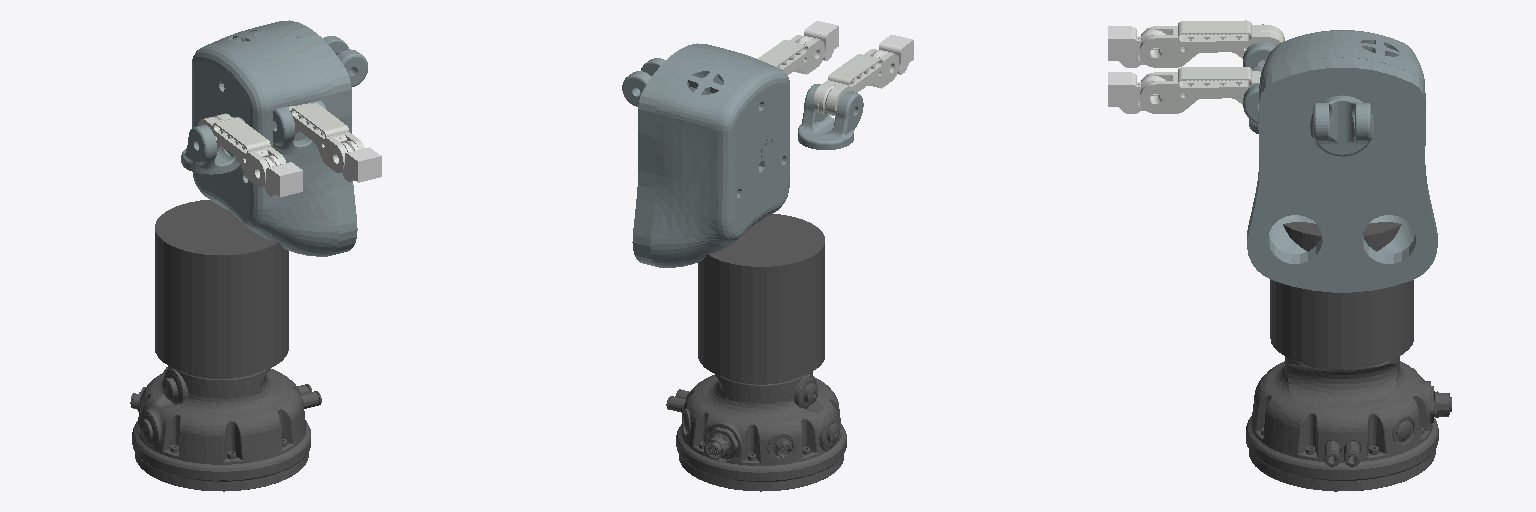
The robot description file, URDF, robot "kuka":
<?xml version="1.0" ?>

<robot name="kuka">
  <!-- Custom materials (colours) -->
  <material name="Black">
    <color rgba="0.2 0.2 0.2 1.0"/>
  </material>
  <material name="Blue">
    <color rgba="0.0 0.0 0.8 1.0"/>
  </material>
  <material name="Green">
    <color rgba="0.0 0.8 0.0 1.0"/>
  </material>
  <material name="TransGreen">
    <color rgba="0.0 0.8 0.0 0.0"/>
  </material>
  <material name="Grey">
    <color rgba="0.4 0.4 0.4 1.0"/>
  </material>

  <material name="Floor">
    <color rgba="0.5 0.5 0.5 1.0"/>
  </material>
  <material name="Red">
    <color rgba="0.8 0.0 0.0 1.0"/>
  </material>
  <material name="White">
    <color rgba="1.0 1.0 1.0 1.0"/>
  </material>
  <material name="Transparent">
    <color rgba="0.0 0.0 0.0 0.0"/>
  </material>

  <material name="Black">
    <color rgba="0.0 0.0 0.0 1.0"/>
  </material>
  <material name="Blue">
    <color rgba="0.0 0.0 0.8 1.0"/>
  </material>
  <material name="Green">
    <color rgba="0.0 0.8 0.0 1.0"/>
  </material>
  <material name="Grey">
    <color rgba="0.4 0.4 0.4 1.0"/>
  </material>
  <material name="Orange">
    <color rgba="1.0 0.423529411765 0.0392156862745 1.0"/>
  </material>
  <material name="Brown">
    <color rgba="0.870588235294 0.811764705882 0.764705882353 1.0"/>
  </material>
  <material name="Red">
    <color rgba="0.8 0.0 0.0 1.0"/>
  </material>
  <material name="White">
    <color rgba="1.0 1.0 1.0 1.0"/>
  </material>

    <link name="iiwa7_link_0">
      <inertial>
        <origin xyz="-0.1 0 0.07" rpy="0 0 0"/>
        <mass value="5"/>
        <inertia ixx="0.05"  ixy="0"  ixz="0" iyy="0.06" iyz="0" izz="0.03" />
      </inertial>

      <visual>
        <origin xyz="0 0 0" rpy="0 0 0"/>
        <geometry>
          <mesh filename="../../urdf/kuka_openhand_description/meshes/iiwa14/visual/link_0.obj"/>
        </geometry>
        <material name="Grey"/>
      </visual>

      <collision>
        <origin xyz="0 0 0" rpy="0 0 0"/>
        <geometry>
          <mesh filename="../../urdf/kuka_openhand_description/meshes/iiwa14/collision/link_0.obj"/>
        </geometry>
        <material name="Grey"/>
      </collision>

      <self_collision_checking>
        <origin xyz="0 0 0" rpy="0 0 0"/>
        <geometry>
          <capsule radius="0.15" length="0.25"/>
        </geometry>
      </self_collision_checking>

    </link>

    <!-- joint between link_0 and link_1 -->
    <joint name="iiwa7_joint_1" type="revolute">
      <parent link="iiwa7_link_0"/>
      <child link="iiwa7_link_1"/>
      <origin xyz="0 0 0.1575" rpy="0 0 0"/>
      <axis xyz="0 0 1"/>
      <limit lower="-2.96705972839" upper="2.96705972839"
             effort="300" velocity="2" />
      <safety_controller soft_lower_limit="-2.93215314335"
                         soft_upper_limit="2.93215314335"
                         k_position="100"
                         k_velocity="2"/>
      <dynamics damping="0.5"/>
    </joint>

    <link name="iiwa7_link_1">
      <inertial>
        <origin xyz="0 -0.03 0.12" rpy="0 0 0"/>
        <mass value="4"/>
        <inertia ixx="0.1"  ixy="0"  ixz="0" iyy="0.09" iyz="0" izz="0.02" />
      </inertial>

      <visual>
        <origin xyz="0 0 0" rpy="0 0 0"/>
        <geometry>
          <mesh filename="../../urdf/kuka_openhand_description/meshes/iiwa14/visual/link_1.obj"/>
        </geometry>
        <material name="White"/>
      </visual>

      <collision>
        <origin xyz="0 0 0" rpy="0 0 0"/>
        <geometry>
          <mesh filename="../../urdf/kuka_openhand_description/meshes/iiwa14/collision/link_1.obj"/>
        </geometry>
        <material name="White"/>
      </collision>
    </link>

    <!-- joint between link_1 and link_2 -->
    <joint name="iiwa7_joint_2" type="revolute">
      <parent link="iiwa7_link_1"/>
      <child link="iiwa7_link_2"/>
      <origin xyz="0 0 0.2025" rpy="1.57079632679   0 3.14159265359"/>
      <axis xyz="0 0 1"/>
      <limit lower="-2.09439510239" upper="2.09439510239"
             effort="300" velocity="2" />
      <safety_controller soft_lower_limit="-2.05948851735"
                         soft_upper_limit="2.05948851735"
                         k_position="100"
                         k_velocity="2"/>
      <dynamics damping="0.5"/>
    </joint>

    <link name="iiwa7_link_2">
      <inertial>
        <origin xyz="0.0003 0.059 0.042" rpy="0 0 0"/>
        <mass value="4"/>
        <inertia ixx="0.05"  ixy="0"  ixz="0" iyy="0.018" iyz="0" izz="0.044" />
      </inertial>

      <visual>
        <origin xyz="0 0 0" rpy="0 0 0"/>
        <geometry>
          <mesh filename="../../urdf/kuka_openhand_description/meshes/iiwa14/visual/link_2.obj"/>
        </geometry>
        <material name="White"/>
      </visual>

      <collision>
        <origin xyz="0 0 0" rpy="0 0 0"/>
        <geometry>
          <mesh filename="../../urdf/kuka_openhand_description/meshes/iiwa14/collision/link_2.obj"/>
        </geometry>
        <material name="White"/>
      </collision>
    </link>

    <!-- joint between link_2 and link_3 -->
    <joint name="iiwa7_joint_3" type="revolute">
      <parent link="iiwa7_link_2"/>
      <child link="iiwa7_link_3"/>
      <origin xyz="0 0.2045 0" rpy="1.57079632679 0 3.14159265359"/>
      <axis xyz="0 0 1"/>
      <limit lower="-2.96705972839" upper="2.96705972839"
             effort="300" velocity="2" />
      <safety_controller soft_lower_limit="-2.93215314335"
                         soft_upper_limit="2.93215314335"
                         k_position="100"
                         k_velocity="2"/>
      <dynamics damping="0.5"/>
    </joint>

    <link name="iiwa7_link_3">
      <inertial>
        <origin xyz="0 0.03 0.13" rpy="0 0 0"/>
        <mass value="3"/>
        <inertia ixx="0.08"  ixy="0"  ixz="0" iyy="0.075" iyz="0" izz="0.01" />
      </inertial>

      <visual>
        <origin xyz="0 0 0" rpy="0 0 0"/>
        <geometry>
          <mesh filename="../../urdf/kuka_openhand_description/meshes/iiwa14/visual/link_3.obj"/>
        </geometry>
        <material name="White"/>
      </visual>

      <collision>
        <origin xyz="0 0 0" rpy="0 0 0"/>
        <geometry>
          <mesh filename="../../urdf/kuka_openhand_description/meshes/iiwa14/collision/link_3.obj"/>
        </geometry>
        <material name="White"/>
      </collision>
    </link>

    <!-- joint between link_3 and link_4 -->
    <joint name="iiwa7_joint_4" type="revolute">
      <parent link="iiwa7_link_3"/>
      <child link="iiwa7_link_4"/>
      <origin xyz="0 0 0.2155" rpy="1.57079632679 0 0"/>
      <axis xyz="0 0 1"/>
      <limit lower="-2.09439510239" upper="2.09439510239"
             effort="300" velocity="2" />
      <safety_controller soft_lower_limit="-2.05948851735"
                         soft_upper_limit="2.05948851735"
                         k_position="100"
                         k_velocity="2"/>
      <dynamics damping="0.5"/>
    </joint>

    <link name="iiwa7_link_4">
      <inertial>
        <origin xyz="0 0.067 0.034" rpy="0 0 0"/>
        <mass value="2.7"/>
        <inertia ixx="0.03"  ixy="0"  ixz="0" iyy="0.01" iyz="0" izz="0.029" />
      </inertial>

      <visual>
        <origin xyz="0 0 0" rpy="0 0 0"/>
        <geometry>
          <mesh filename="../../urdf/kuka_openhand_description/meshes/iiwa14/visual/link_4.obj"/>
        </geometry>
        <material name="White"/>
      </visual>

      <collision>
        <origin xyz="0 0 0" rpy="0 0 0"/>
        <geometry>
          <mesh filename="../../urdf/kuka_openhand_description/meshes/iiwa14/collision/link_4.obj"/>
        </geometry>
        <material name="White"/>
      </collision>
    </link>

    <!-- joint between link_4 and link_5 -->
    <joint name="iiwa7_joint_5" type="revolute">
      <parent link="iiwa7_link_4"/>
      <child link="iiwa7_link_5"/>
      <origin xyz="0 0.1845 0" rpy="-1.57079632679 3.14159265359 0"/>
      <axis xyz="0 0 1"/>
      <limit lower="-2.96705972839" upper="2.96705972839"
             effort="300" velocity="2" />
      <safety_controller soft_lower_limit="-2.93215314335"
                         soft_upper_limit="2.93215314335"
                         k_position="100"
                         k_velocity="2"/>
      <dynamics damping="0.5"/>
    </joint>

    <link name="iiwa7_link_5">
      <inertial>
        <origin xyz="0.0001 0.021 0.076" rpy="0 0 0"/>
        <mass value="1.7"/>
        <inertia ixx="0.02"  ixy="0"  ixz="0" iyy="0.018" iyz="0" izz="0.005" />
      </inertial>

      <visual>
        <origin xyz="0 0 0" rpy="0 0 0"/>
        <geometry>
          <mesh filename="../../urdf/kuka_openhand_description/meshes/iiwa14/visual/link_5.obj"/>
        </geometry>
        <material name="White"/>
      </visual>

      <collision>
        <origin xyz="0 0 0" rpy="0 0 0"/>
        <geometry>
          <mesh filename="../../urdf/kuka_openhand_description/meshes/iiwa14/collision/link_5.obj"/>
        </geometry>
        <material name="White"/>
      </collision>
    </link>

    <!-- joint between link_5 and link_6 -->
    <joint name="iiwa7_joint_6" type="revolute">
      <parent link="iiwa7_link_5"/>
      <child link="iiwa7_link_6"/>
      <origin xyz="0 0 0.2155" rpy="1.57079632679 0 0"/>
      <axis xyz="0 0 1"/>
      <limit lower="-2.09439510239" upper="2.09439510239"
             effort="300" velocity="2" />
      <safety_controller soft_lower_limit="-2.05948851735"
                         soft_upper_limit="2.05948851735"
                         k_position="100"
                         k_velocity="2"/>
      <dynamics damping="0.5"/>
    </joint>

    <link name="iiwa7_link_6">
      <inertial>
        <origin xyz="0 0.0006 0.0004" rpy="0 0 0"/>
        <mass value="1.8"/>
        <inertia ixx="0.005"  ixy="0"  ixz="0" iyy="0.0036" iyz="0" izz="0.0047" />
      </inertial>

      <visual>
        <origin xyz="0 0 0" rpy="0 0 0"/>
        <geometry>
          <mesh filename="../../urdf/kuka_openhand_description/meshes/iiwa14/visual/link_6.obj"/>
        </geometry>
        <material name="White"/>
      </visual>

      <collision>
        <origin xyz="0 0 0" rpy="0 0 0"/>
        <geometry>
          <mesh filename="../../urdf/kuka_openhand_description/meshes/iiwa14/collision/link_6.obj"/>
        </geometry>
        <material name="White"/>
      </collision>
    </link>

    <!-- joint between link_6 and link_7 -->
    <joint name="iiwa7_joint_7" type="revolute">
      <parent link="iiwa7_link_6"/>
      <child link="iiwa7_link_7"/>
      <origin xyz="0 0.081 0" rpy="-1.57079632679 3.14159265359 0"/>
      <axis xyz="0 0 1"/>
      <limit lower="-3.05432619099" upper="3.05432619099"
             effort="300" velocity="2" />
      <safety_controller soft_lower_limit="-3.01941960595"
                         soft_upper_limit="3.01941960595"
                         k_position="100"
                         k_velocity="2"/>
      <dynamics damping="0.5"/>
    </joint>

    <link name="iiwa7_link_7">
      <inertial>
        <origin xyz="0 0 0.02" rpy="0 0 0"/>
        <mass value="0.3"/>
        <inertia ixx="0.001"  ixy="0"  ixz="0" iyy="0.001" iyz="0" izz="0.001" />
      </inertial>

      <visual>
        <origin xyz="0 0 0" rpy="0 0 0"/>
        <geometry>
          <mesh filename="../../urdf/kuka_openhand_description/meshes/iiwa14/visual/link_7-MF-Touch-pneumatisch.obj"/>
        </geometry>
        <material name="Grey"/>
      </visual>

      <collision>
        <origin xyz="0 0 0" rpy="0 0 0"/>
        <geometry>
          <mesh filename="../../urdf/kuka_openhand_description/meshes/iiwa14/visual/link_7-MF-Touch-pneumatisch.obj"/>
        </geometry>
        <material name="Grey"/>
      </collision>
    </link>


  <!-- gripper tags -->

   <link name="dummy_ft_link">
    <visual>
      <geometry>
        <cylinder length="0.08" radius="0.04"/>
      </geometry>
      <material name="Grey"/>
    </visual>
    <inertial>
      <origin xyz="0 0 0" rpy="0 0 0"/>
      <mass value="0.1"/>
      <inertia ixx="0.001"  ixy="0"  ixz="0" iyy="0.001" iyz="0" izz="0.001" />
    </inertial>
    <collision>
      <origin xyz="0 0 0" rpy="0 0 0"/>
      <geometry>
        <cylinder length="0.08" radius="0.04"/>
      </geometry>
    </collision>
  </link>

  <!-- joint between link_ee and gripper -->
  <joint name="iiwa_ft_base_joint" type="fixed">
    <parent link="iiwa7_link_7"/>
    <child link="dummy_ft_link"/>
    <origin rpy="0 0 0" xyz="0 0 0.11"/>
  </joint>

  <joint name="iiwa_gripper_base_joint" type="fixed">
    <parent link="iiwa7_link_7"/>
    <child link="gripper_base_link"/>
    <origin rpy="0 1.57079632679 0" xyz="0 0 0.21"/>
  </joint>

  <link name="gripper_base_link">
    <visual>
      <origin rpy="1.57079632679 0 -1.57079632679" xyz="0.06 0.017 0"/>
      <origin rpy="0 0 0" xyz="0 0 0"/>
      <geometry>
        <mesh filename="../../urdf/kuka_openhand_description/meshes/yale_openhand_O/base_link.obj"/>
      </geometry>
  <material name="coolgrey" >
    <color rgba="0.5843137254901961 0.6392156862745098 0.6509803921568628 1.0" />
  </material>
    </visual>
    <inertial>
      <origin rpy="0 0 0" xyz="0.03 0 0."/>
      <mass value="0.7"/>
      <inertia ixx="0.001" ixy="0.0" ixz="0.0" iyy="0.001" iyz="0.0" izz="0.001"/>
    </inertial>
    <collision>
      <origin rpy="1.57079632679 0 -1.57079632679" xyz="0.06 0.017 0"/>
      <geometry>
        <mesh filename="../../urdf/kuka_openhand_description/meshes/yale_openhand_O/base_link.obj"/>
      </geometry>
    </collision>
  </link>

  <link name="finger_1_1">
     <contact>
        <lateral_friction value="1"/>
        <rolling_friction value="0.1"/>
        <contact_cfm value="0.0"/>
        <contact_erp value="1.0"/>
      </contact>
    <inertial>
      <origin rpy="0 0 0" xyz="0 0 0"/>
      <mass value="0.05"/>
      <inertia ixx="0.0001" ixy="0.0" ixz="0.0" iyy="0.0001" iyz="0.0" izz="0.0001"/>
    </inertial>
    <visual>
  <material name="coolgrey" >
    <color rgba="0.5843137254901961 0.6392156862745098 0.6509803921568628 1.0" />
  </material>
      <origin rpy="1.57079632679 3.14159265359 -1.57079632679" xyz="-0.00 0.0 0.00"/>
      <geometry>
        <!-- <cylinder length="0.002" radius="0.018" /> -->
        <mesh filename="../../urdf/kuka_openhand_description/meshes/yale_openhand_O/swivel_1.obj"/>
      </geometry>
    </visual>
    <collision>
      <origin rpy="0 1.57079632679 0 " xyz="0.00 0.0 0.00"/>
      <geometry>
        <cylinder length="0.002" radius="0.018"/>
      </geometry>
    </collision>
  </link>

  <link name="finger_1_2">
        <contact>
        <lateral_friction value="1"/>
        <rolling_friction value="0.1"/>
        <contact_cfm value="0.0"/>
        <contact_erp value="1.0"/>
      </contact>
    <inertial>
      <origin rpy="0 0 0" xyz="0 0 0"/>
      <mass value="0.05"/>
      <inertia ixx="0.0001" ixy="0.0" ixz="0.0" iyy="0.0001" iyz="0.0" izz="0.0001"/>
    </inertial>
    <visual>
  <material name="lightgrey" >
    <color rgba="0.8470588235294118 0.8627450980392157 0.8392156862745098 1.0" />
  </material>
      <origin rpy="0 -3.141592653592 2.4" xyz="-0.00 0.0753 0.008"/>
      <geometry>
        <mesh filename="../../urdf/kuka_openhand_description/meshes/yale_openhand_O/proximal_O.obj" scale="0.00100 0.00100 0.00100"/>
      </geometry>
    </visual>
    <collision>
      <origin rpy="0 -3.141592653592 2.4" xyz="-0.00 0.0753 0.008"/>
      <geometry>
        <mesh filename="../../urdf/kuka_openhand_description/meshes/yale_openhand_O/proximal_O.obj" scale="0.00100 0.00100 0.00100"/>
      </geometry>
    </collision>
  </link>

    <link name="mount_1_3">
      <inertial>
      <origin rpy="0 0 0" xyz="0 0 0"/>
      <mass value="0.05"/>
      <inertia ixx="0.0001" ixy="0.0" ixz="0.0" iyy="0.0001" iyz="0.0" izz="0.0001"/>
    </inertial>
    <visual>
      <geometry>
        <mesh filename="../../urdf/kuka_openhand_description/meshes/allsight/allsight_mount.obj"/>
      </geometry>
      <material name="white">
        <color rgba=".9 .9 .9 1"/>
      </material>
    </visual>
     <collision>
           <geometry>
        <mesh filename="../../urdf/kuka_openhand_description/meshes/allsight/allsight_mount.obj"/>
      </geometry>
    </collision>
  </link>

  <link name="finger_1_3">
      <inertial>
      <!--                  <origin xyz="-0.005 0.03 0" rpy="0 0 0"/>-->
      <origin rpy="0 0 0" xyz="0 0 0"/>
      <mass value="0.05"/>
      <inertia ixx="0.0001" ixy="0.0" ixz="0.0" iyy="0.0001" iyz="0.0" izz="0.0001"/>
    </inertial>
    <visual>
      <geometry>
        <mesh filename="../../urdf/kuka_openhand_description/meshes/allsight/allsight_fine01.obj"/>
      </geometry>
      <material name="white">
        <color rgba=".9 .9 .9 1"/>
      </material>
    </visual>
     <collision>
     <!--
            <origin xyz="0.016 0 0" rpy="0 -1.57079632679 0"/>
            <geometry>
                   <cylinder radius="0.012" length="0.032" />
            </geometry>
     -->
           <geometry>
        <mesh filename="../../urdf/kuka_openhand_description/meshes/allsight/allsight_fine01.obj"/>
      </geometry>
    </collision>
  </link>

  <link name="finger_2_1">
        <contact>
        <lateral_friction value="1"/>
        <rolling_friction value="0.1"/>
        <contact_cfm value="0.0"/>
        <contact_erp value="1.0"/>
      </contact>
    <inertial>
      <origin rpy="0 0 0" xyz="0 0 0"/>
      <mass value="0.05"/>
      <inertia ixx="0.0001" ixy="0.0" ixz="0.0" iyy="0.0001" iyz="0.0" izz="0.0001"/>
    </inertial>
    <visual>
  <material name="coolgrey" >
    <color rgba="0.5843137254901961 0.6392156862745098 0.6509803921568628 1.0" />
  </material>
      <origin rpy="1.57079632679 3.14159265359 -1.57079632679" xyz="-0.00 0.0 0.00"/>
      <geometry>
        <mesh filename="../../urdf/kuka_openhand_description/meshes/yale_openhand_O/swivel_1.obj"/>
      </geometry>
    </visual>
    <collision>
      <origin rpy="0 1.57079632679 0 " xyz="0.00 0.0 0.00"/>
      <geometry>
        <cylinder length="0.002" radius="0.018"/>
      </geometry>
    </collision>
  </link>

  <link name="finger_2_2">
        <contact>
        <lateral_friction value="1"/>
        <rolling_friction value="0.1"/>
        <contact_cfm value="0.0"/>
        <contact_erp value="1.0"/>
      </contact>
    <inertial>
      <origin rpy="0 0 0" xyz="0 0 0"/>
      <mass value="0.05"/>
      <inertia ixx="0.0001" ixy="0.0" ixz="0.0" iyy="0.0001" iyz="0.0" izz="0.0001"/>
    </inertial>
    <visual>
  <material name="lightgrey" >
    <color rgba="0.8470588235294118 0.8627450980392157 0.8392156862745098 1.0" />
  </material>
      <origin rpy="0 -3.141592653592 2.4" xyz="-0.00 0.0753 0.008"/>
      <geometry>
        <mesh filename="../../urdf/kuka_openhand_description/meshes/yale_openhand_O/proximal_O.obj" scale="0.00100 0.00100 0.00100"/>
      </geometry>
    </visual>
    <collision>
      <origin rpy="0 -3.141592653592 2.4" xyz="-0.00 0.0753 0.008"/>
      <geometry>
        <mesh filename="../../urdf/kuka_openhand_description/meshes/yale_openhand_O/proximal_O.obj" scale="0.00100 0.00100 0.00100"/>
      </geometry>
    </collision>
  </link>

   <link name="mount_2_3">
      <inertial>
      <origin rpy="0 0 0" xyz="0 0 0"/>
      <mass value="0.05"/>
      <inertia ixx="0.0001" ixy="0.0" ixz="0.0" iyy="0.0001" iyz="0.0" izz="0.0001"/>
    </inertial>
    <visual>
      <geometry>
        <mesh filename="../../urdf/kuka_openhand_description/meshes/allsight/allsight_mount.obj"/>
      </geometry>
      <material name="white">
        <color rgba=".9 .9 .9 1"/>
      </material>
    </visual>
     <collision>
           <geometry>
        <mesh filename="../../urdf/kuka_openhand_description/meshes/allsight/allsight_mount.obj"/>
      </geometry>
    </collision>
  </link>

  <link name="finger_2_3">

      <inertial>
      <origin rpy="0 0 0" xyz="0 0 0"/>
      <mass value="0.05"/>
      <inertia ixx="0.0001" ixy="0.0" ixz="0.0" iyy="0.0001" iyz="0.0" izz="0.0001"/>
    </inertial>
    <visual>
      <geometry>
        <mesh filename="../../urdf/kuka_openhand_description/meshes/allsight/allsight_fine01.obj"/>
      </geometry>
      <material name="white">
        <color rgba=".9 .9 .9 1"/>
      </material>
    </visual>
     <collision>
     <!--
            <origin xyz="0.016 0 0" rpy="0 -1.57079632679 0"/>
            <geometry>
                   <cylinder radius="0.012" length="0.032" />
            </geometry>
     -->
           <geometry>
        <mesh filename="../../urdf/kuka_openhand_description/meshes/allsight/allsight_fine01.obj"/>
      </geometry>
    </collision>
  </link>

  <!-- Joints -->

  <joint name="base_to_finger_1_1" type="revolute">
    <origin rpy="3.14159265359 0 0" xyz="-0.003 -0.034 -0.027"/>
    <parent link="gripper_base_link"/>
    <child link="finger_1_1"/>
    <limit effort="3" lower="0" upper="1.57079632679" velocity="2"/>
    <axis xyz="1 0 0"/>
    <dynamics friction="10" damping="10" />
  </joint>

  <joint name="finger_1_1_to_finger_1_2" type="revolute">
    <origin rpy="0 0 0" xyz="-0.023 0.00725 0"/>
    <parent link="finger_1_1"/>
    <child link="finger_1_2"/>
    <limit effort="3" lower="-0.1" upper="3.0" velocity="2"/>
    <axis xyz="0 0 1"/>
    <dynamics friction="10" damping="10" />
  </joint>

   <joint name="finger_1_2_to_finger_1_3" type="revolute">
    <origin rpy="0 0 1.57079632679" xyz="0.0008 0.063 0"/>
    <parent link="finger_1_2"/>
    <child link="mount_1_3"/>
    <limit effort="3" lower="0.0" upper="1.27" velocity="2"/>
    <axis xyz="0 0 1"/>
    <dynamics friction="10" damping="10" />
  </joint>

    <joint name="finger_1_2_to_finger_1_3_tip" type="fixed">
    <origin rpy="1.57079632679 0 0" xyz="0.025 0.003 0"/>
    <parent link="mount_1_3"/>
    <child link="finger_1_3"/>
  </joint>

  <joint name="base_to_finger_2_1" type="revolute">
    <origin rpy="3.14159265359 0 0" xyz="-0.003 -0.034 0.027"/>
    <parent link="gripper_base_link"/>
    <child link="finger_2_1"/>
    <limit effort="3" lower="-1.57079632679" upper="0" velocity="2"/>
    <axis xyz="1 0 0"/>
    <dynamics friction="10" damping="10" />
  </joint>

  <joint name="finger_2_1_to_finger_2_2" type="revolute">
    <origin rpy="0 0 0" xyz="-0.02 0.00725 0"/>
    <parent link="finger_2_1"/>
    <child link="finger_2_2"/>
    <limit effort="3" lower="-0.1" upper="3.0" velocity="2"/>
    <axis xyz="0 0 1"/>
    <dynamics friction="10" damping="10" />
  </joint>

  <joint name="finger_2_2_to_finger_2_3" type="revolute">
    <origin rpy="0 0 1.57079632679" xyz="0.0008 0.063 0"/>
    <parent link="finger_2_2"/>
    <child link="mount_2_3"/>
    <limit effort="3" lower="0.0" upper="1.27" velocity="2"/>
    <axis xyz="0 0 1"/>
    <dynamics friction="10" damping="10" />
  </joint>

   <joint name="finger_2_2_to_finger_2_3_tip" type="fixed">
    <origin rpy="1.57079632679 0 0" xyz="0.025 0.003 0"/>
    <parent link="mount_2_3"/>
    <child link="finger_2_3"/>
  </joint>

     <!--Used for calculating pose and Jacobian.
    Joint connects hand to dummy link located at midpoint between bottoms of fingertips (when centered).-->

  <joint name="iiwa7_joint_ee" type="fixed">
    <parent link="dummy_ft_link"/>
    <child link="kuka_fingertip_centered"/>
    <origin rpy="0 0 0" xyz="0.00 -0.035 0.23"/>
  </joint>

  <link name="kuka_fingertip_centered" />

</robot>

--- Facts derived from the render (not from the file) ---
3 views of the same robot in one strip: view 1: azimuth 30°, elevation 25°; view 2: azimuth 150°, elevation 25°; view 3: azimuth 270°, elevation 25° (orthographic).
Model kuka with 19 links and 18 joints (13 revolute, 5 fixed), rooted at iiwa7_link_0, posed all joints at 0.
Visible links, largest first — view 1: gripper_base_link, dummy_ft_link, iiwa7_link_7, finger_1_2, finger_2_2, finger_1_1, finger_2_1, mount_2_3, mount_1_3; view 2: gripper_base_link, dummy_ft_link, iiwa7_link_7, finger_1_2, finger_1_1, finger_2_2, mount_1_3, mount_2_3; view 3: gripper_base_link, iiwa7_link_7, dummy_ft_link, finger_1_2, finger_2_2, mount_1_3, mount_2_3, finger_2_1, finger_1_1.
Link boxes in pixels (x1,y1,x2,y2): gripper_base_link: [192, 20, 367, 256]; dummy_ft_link: [155, 200, 288, 376]; iiwa7_link_7: [130, 366, 321, 491]; finger_1_2: [198, 113, 285, 187]; finger_2_2: [287, 103, 364, 172]; finger_1_1: [181, 117, 244, 174]; finger_2_1: [273, 100, 326, 154]; mount_2_3: [342, 141, 381, 182]; mount_1_3: [263, 155, 302, 196]; gripper_base_link: [622, 43, 789, 267]; dummy_ft_link: [698, 214, 824, 382]; iiwa7_link_7: [666, 372, 846, 491]; finger_1_2: [813, 49, 898, 116]; finger_1_1: [798, 84, 863, 149]; finger_2_2: [758, 35, 824, 75]; mount_1_3: [873, 34, 913, 74]; mount_2_3: [799, 21, 838, 60]; gripper_base_link: [1247, 30, 1437, 292]; iiwa7_link_7: [1246, 356, 1451, 491]; dummy_ft_link: [1270, 222, 1413, 367]; finger_1_2: [1140, 20, 1284, 67]; finger_2_2: [1140, 67, 1260, 113]; mount_1_3: [1108, 26, 1165, 67]; mount_2_3: [1108, 72, 1165, 113]; finger_2_1: [1243, 66, 1263, 133]; finger_1_1: [1243, 24, 1275, 68].
Bounding box of the posed robot: 0.1468 × 0.1913 × 0.2749 m (x, y, z).
8 mesh visuals loaded from 13 distinct referenced files (5 OBJ); not drawn: 9 (reference not matched to a file when rendering).
